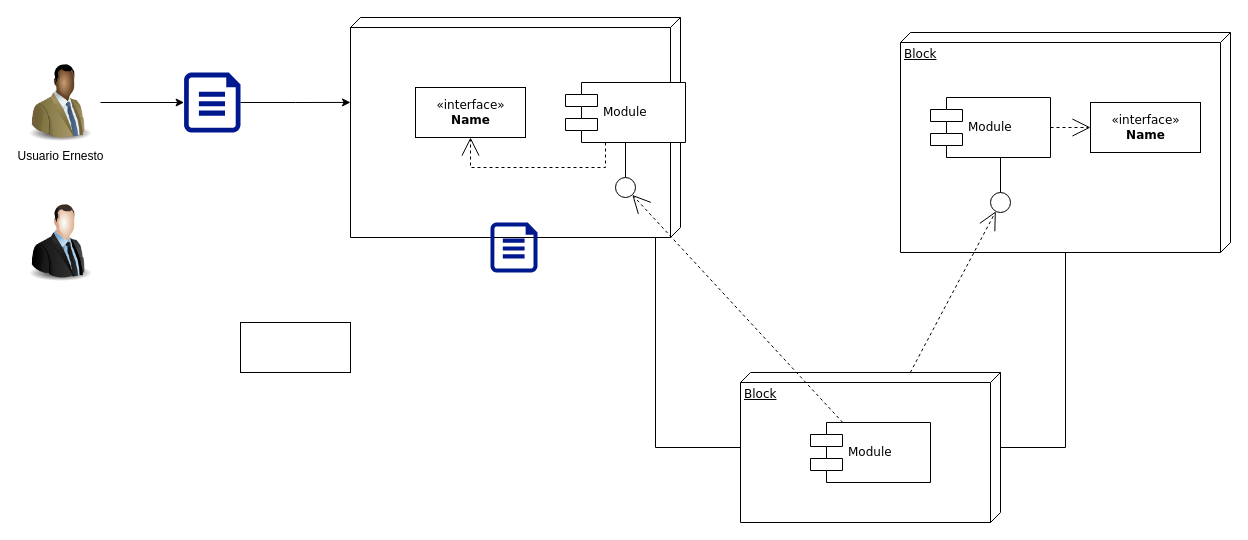
The diagram is 1248 pixels wide and 540 high, and some of its shapes have lost their labels. The shapes that lost their labels are listed below. From the top down, each one's box as (x1, y1, x2, y2) in pixels, then its label:
(184, 72, 240, 132): Carga SKU
(350, 16, 680, 238): Oracle ERP
(20, 202, 100, 282): Usuario Kevin
(240, 322, 350, 372): ERP
